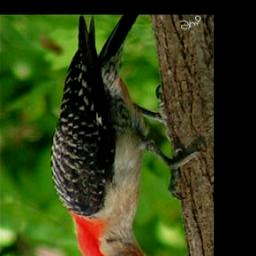Woodpecker: (49, 15, 207, 256)
